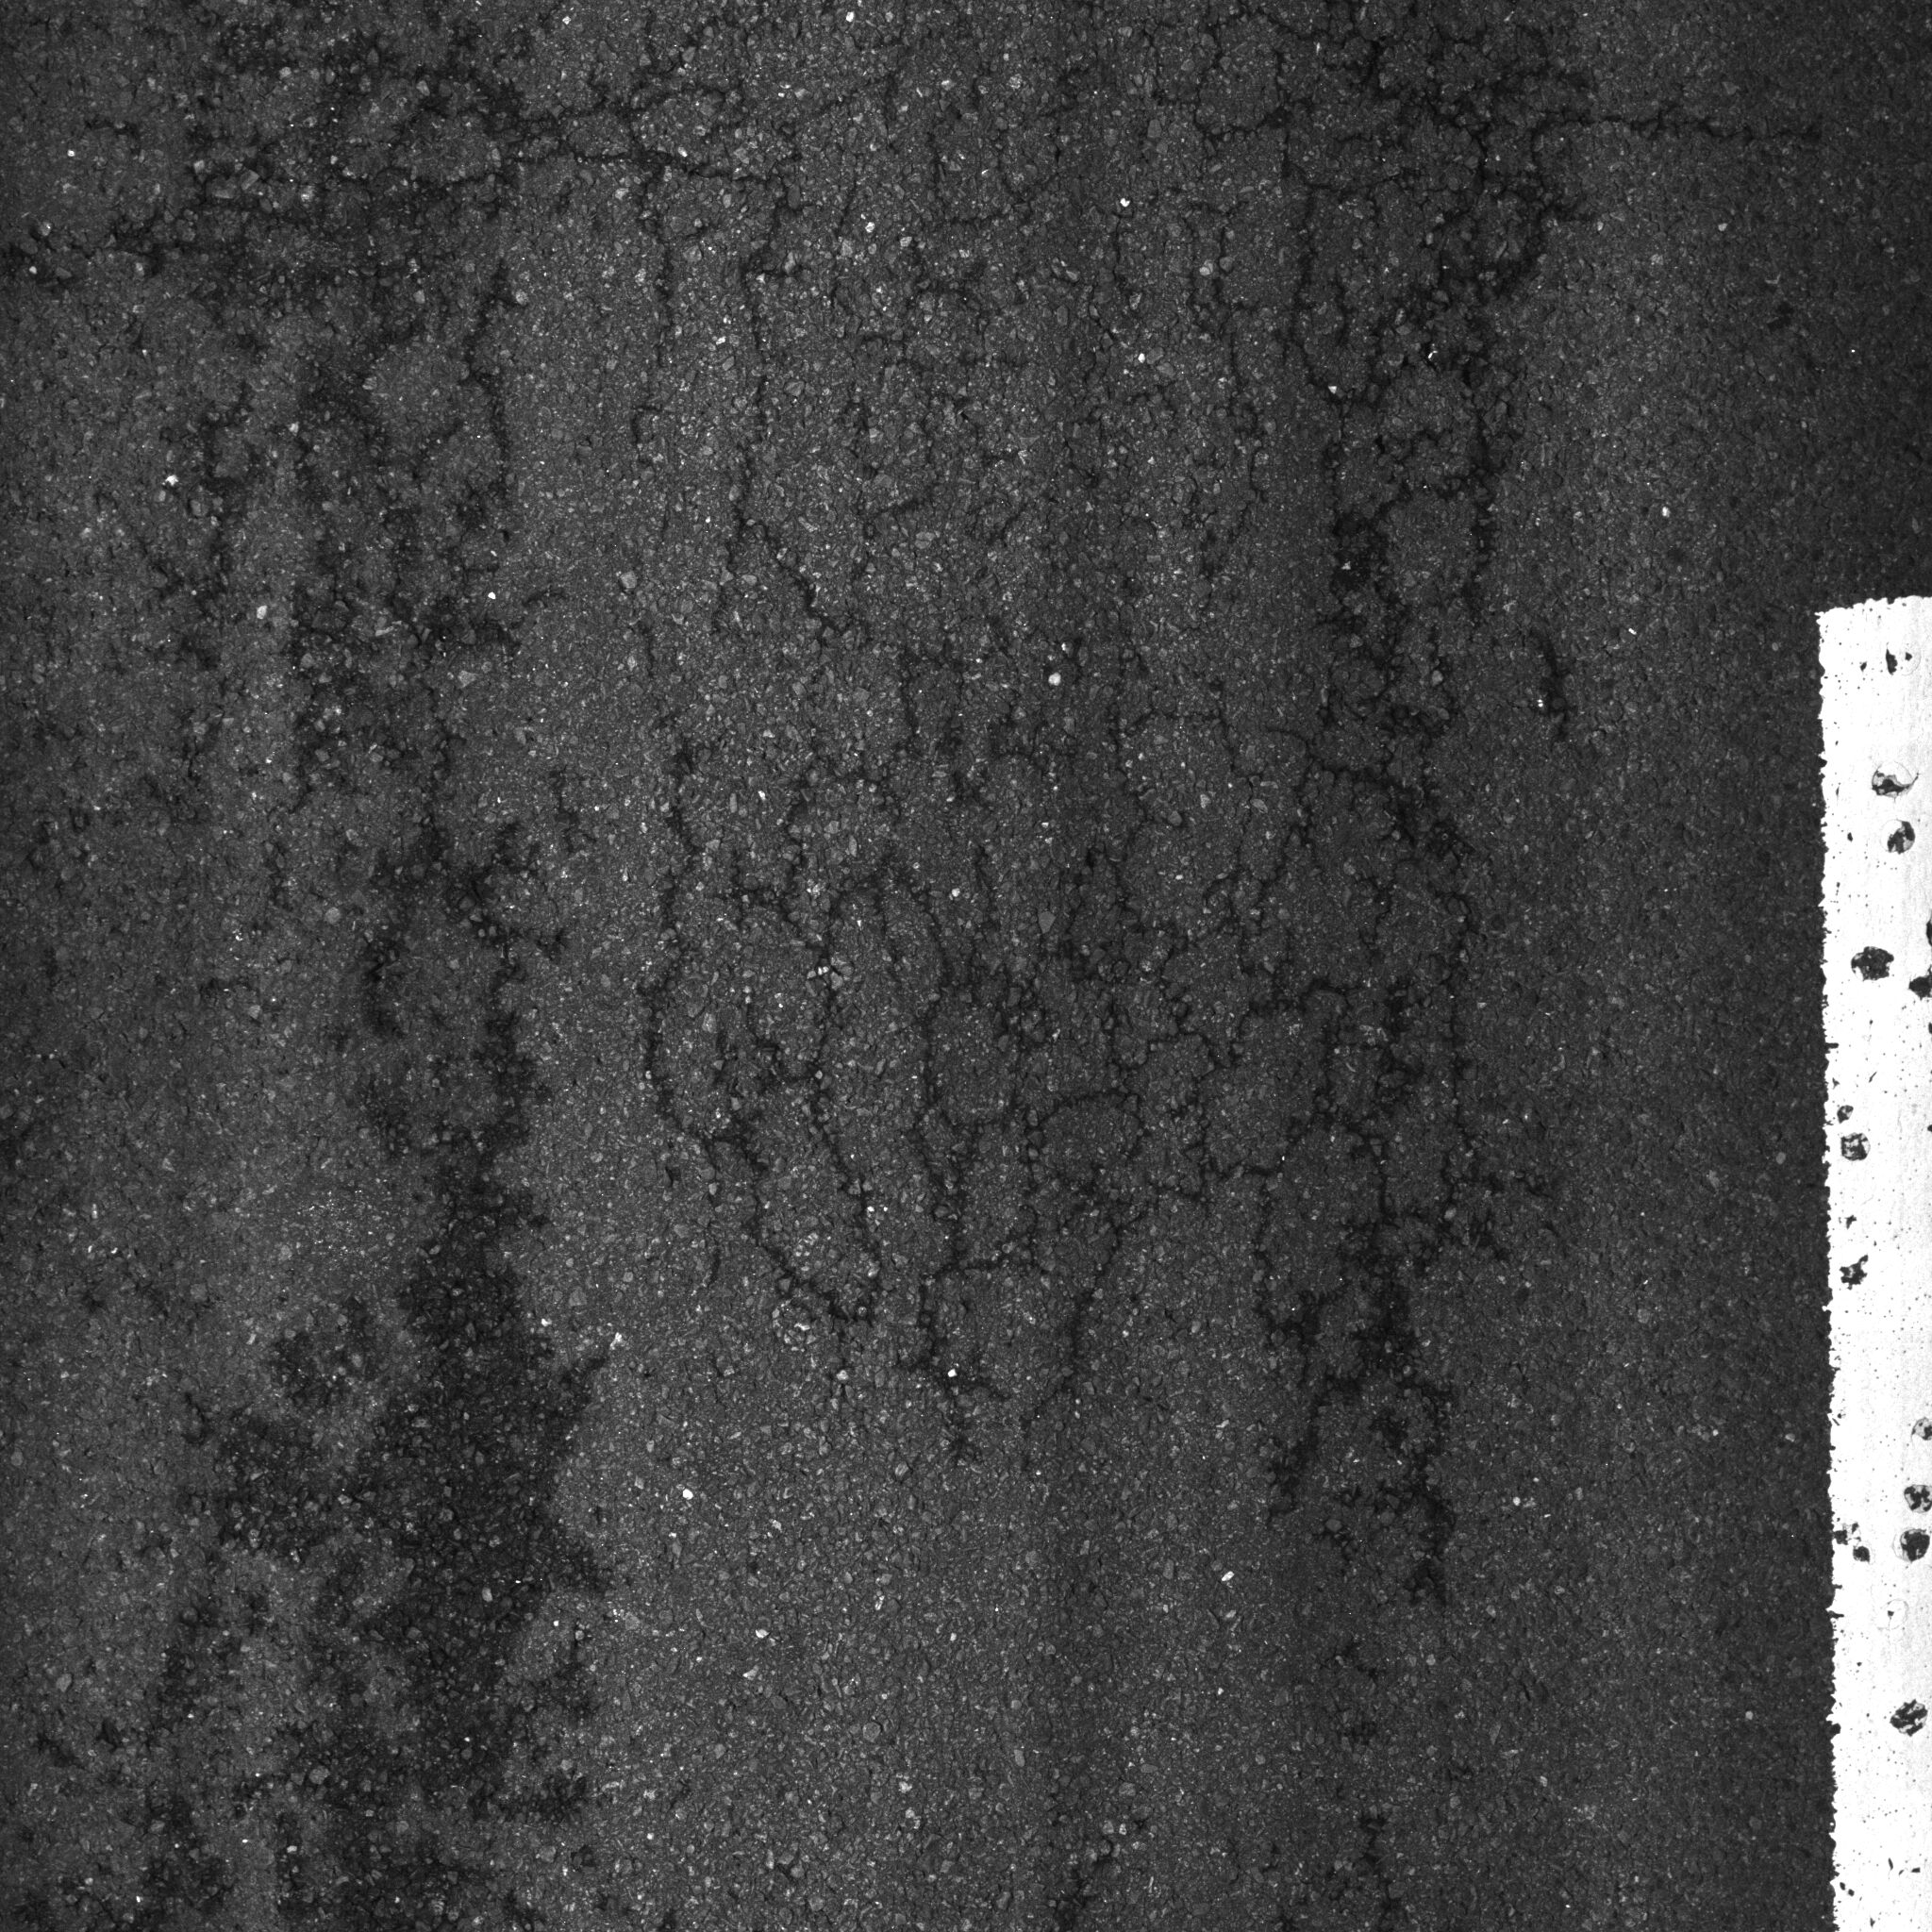alligator: (18, 16, 1752, 1842)
